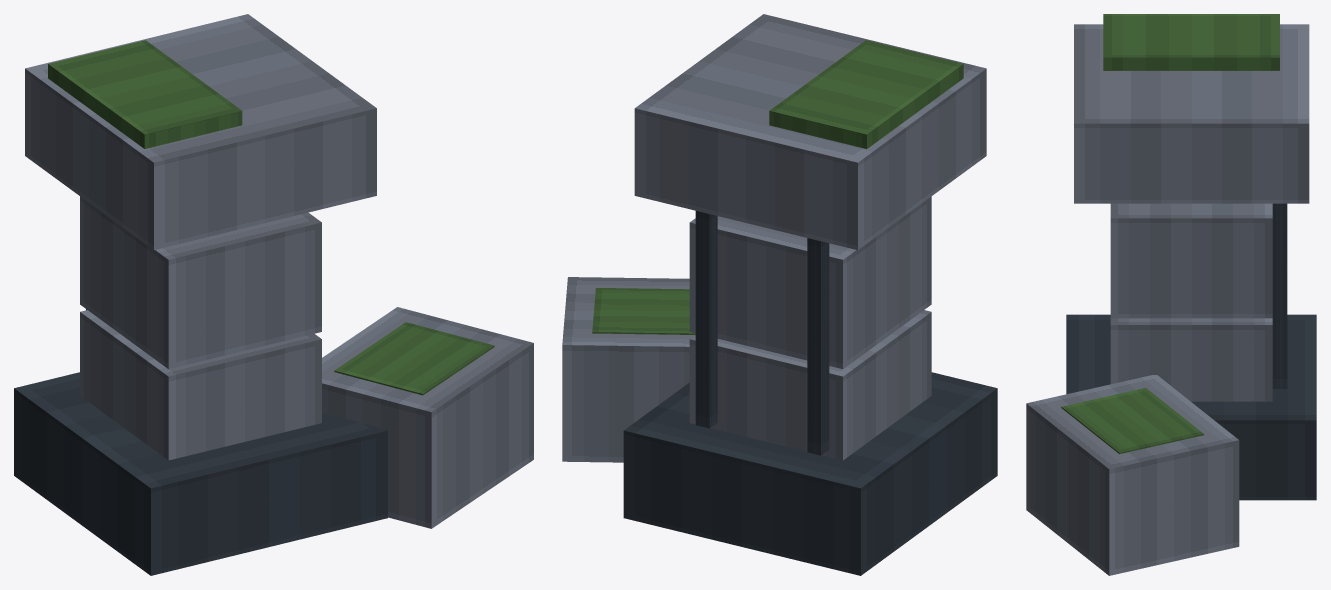
Rendered from ruin_column_broken_forest.gltf.
3 views of the same model, side by side, from view 1: azimuth 30°, elevation 25°; view 2: azimuth 150°, elevation 25°; view 3: azimuth 270°, elevation 25° (orthographic). The views are drawn at different scales.
Visible parts, largest first — view 1: root_mesh; view 2: root_mesh; view 3: root_mesh.
Boxes of the visible parts, bbox=[...] form: root_mesh: bbox=[14, 14, 533, 575]; root_mesh: bbox=[562, 14, 997, 575]; root_mesh: bbox=[1026, 14, 1316, 575].
Bounding box in the file's own units: 1.82 × 1.81 × 1.23.
1 material, 1 textured.
